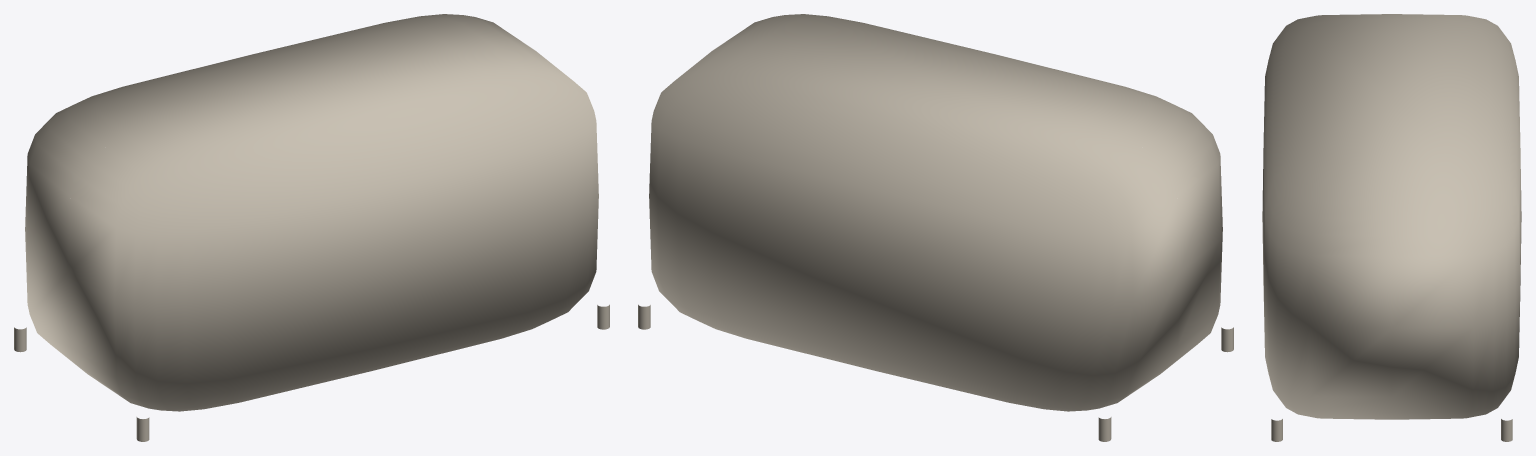
File: ikea-ektorp-09299015-g2-proxy.glb
3 renders of one model, left to right at view 1: azimuth 30°, elevation 25°; view 2: azimuth 150°, elevation 25°; view 3: azimuth 270°, elevation 25°, orthographic. The views are drawn at different scales.
Visible parts, largest first — view 1: proxy_body; view 2: proxy_body; view 3: proxy_body, leg (×2).
Boxes of the visible parts, x1,y1,x2,y2 form: proxy_body: (25,14,598,411); proxy_body: (649,14,1222,411); proxy_body: (1262,14,1521,419); leg (×2): (1271,419,1512,441).
Size of the model in its own units: 1.79 by 0.88 by 0.88.
